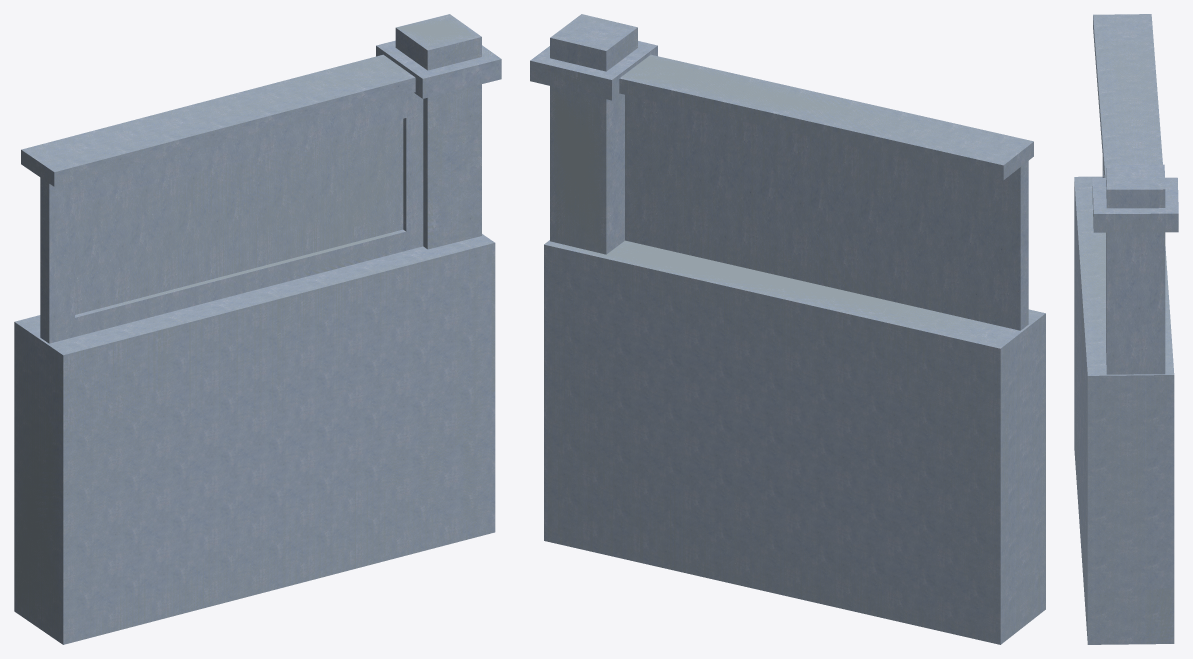
The model's file is Tall_wall.fbx.
The picture shows the model from 3 angles, left to right: view 1: azimuth 30°, elevation 25°; view 2: azimuth 150°, elevation 25°; view 3: azimuth 270°, elevation 25°; orthographic projection. The views are drawn at different scales.
Parts seen in each view (by area): view 1: Group1, Component_121_1, Component_120_1; view 2: Group1, Component_121_1, Component_120_1; view 3: Group1, Component_120_1.
Boxes of the visible parts, x1,y1,x2,y2 form: Group1: (14, 54, 495, 644); Component_121_1: (40, 92, 423, 343); Component_120_1: (376, 14, 501, 249); Group1: (544, 54, 1045, 644); Component_121_1: (625, 95, 1028, 330); Component_120_1: (530, 14, 657, 254); Group1: (1074, 14, 1174, 644); Component_120_1: (1092, 164, 1178, 374).
Size of the model in its own units: 182 by 188 by 39.3.
